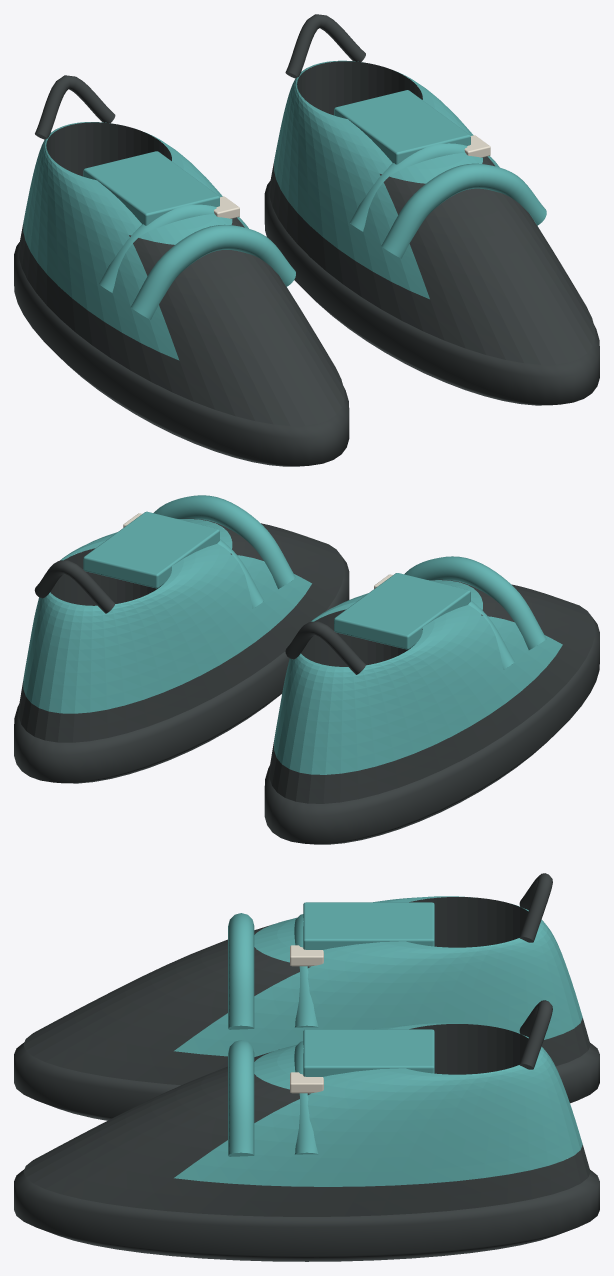
The model's file is indoor-climbing-and-bouldering-gym-indoor-climbing-and-0d0361ba__31547.glb.
The picture shows the model from 3 angles, top to bottom: view 1: azimuth 30°, elevation 25°; view 2: azimuth 150°, elevation 25°; view 3: azimuth 270°, elevation 25°; orthographic projection. The views are drawn at different scales.
Visible parts, largest first — view 1: indoor-climbing-and-bouldering-gym-climbing-shoe-pair; view 2: indoor-climbing-and-bouldering-gym-climbing-shoe-pair; view 3: indoor-climbing-and-bouldering-gym-climbing-shoe-pair.
Boxes of the visible parts, x1,y1,x2,y2 form: indoor-climbing-and-bouldering-gym-climbing-shoe-pair: (14, 14, 599, 466); indoor-climbing-and-bouldering-gym-climbing-shoe-pair: (14, 495, 599, 844); indoor-climbing-and-bouldering-gym-climbing-shoe-pair: (14, 873, 599, 1261).
Size of the model in its own units: 0.276 by 0.1279 by 0.312.
